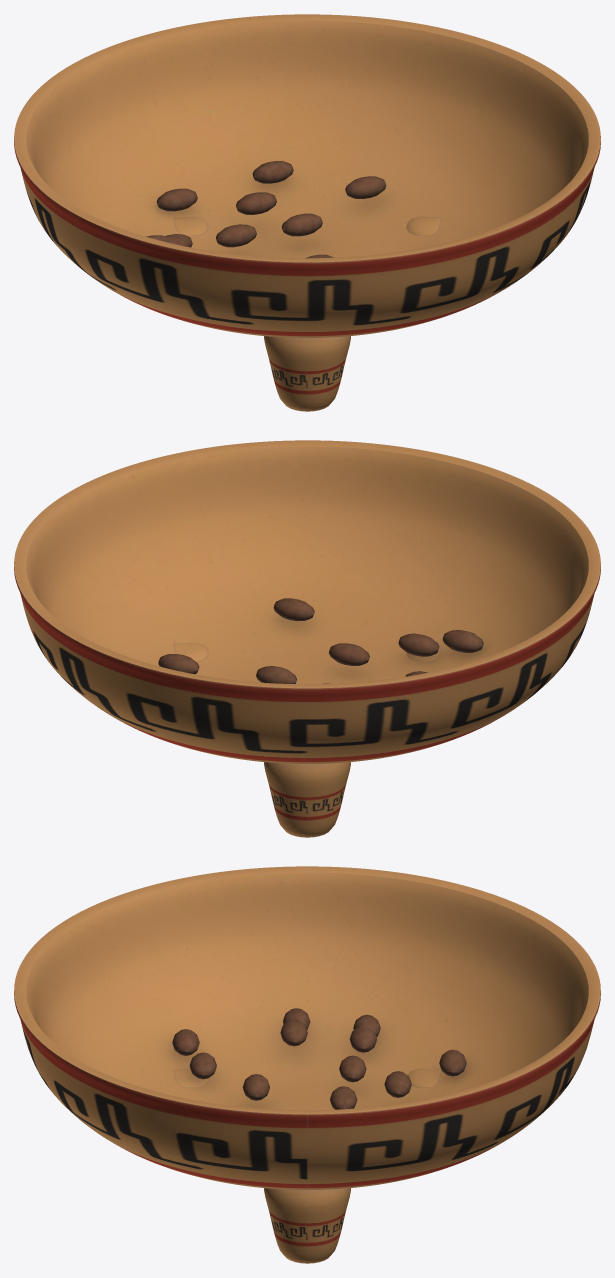
File: tripod_bowl.glb
The picture shows the model from 3 angles, top to bottom: view 1: azimuth 30°, elevation 25°; view 2: azimuth 150°, elevation 25°; view 3: azimuth 270°, elevation 25°; orthographic projection.
Parts seen in each view (by area): view 1: tripod_bowl; view 2: tripod_bowl; view 3: tripod_bowl.
Part boxes in pixels (<box>): tripod_bowl: <box>14,14,600,411</box>; tripod_bowl: <box>14,440,600,837</box>; tripod_bowl: <box>14,866,600,1263</box>.
Bounding box in the file's own units: 0.2823 × 0.1059 × 0.2823.
Materials: 1 (1 with a texture image).
